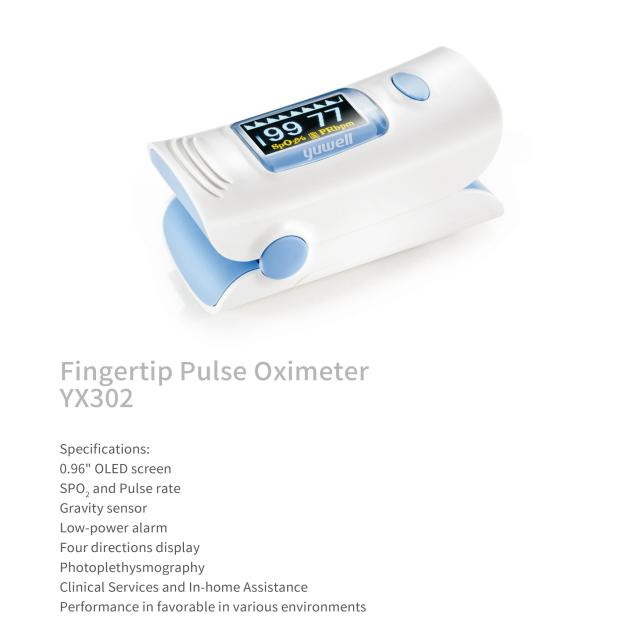oximeter: (135, 12, 540, 322)
